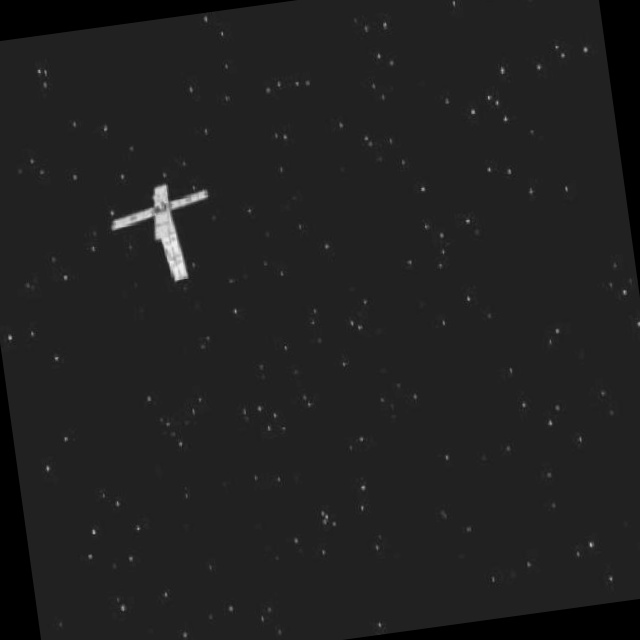satellite: (106, 165, 228, 292)
